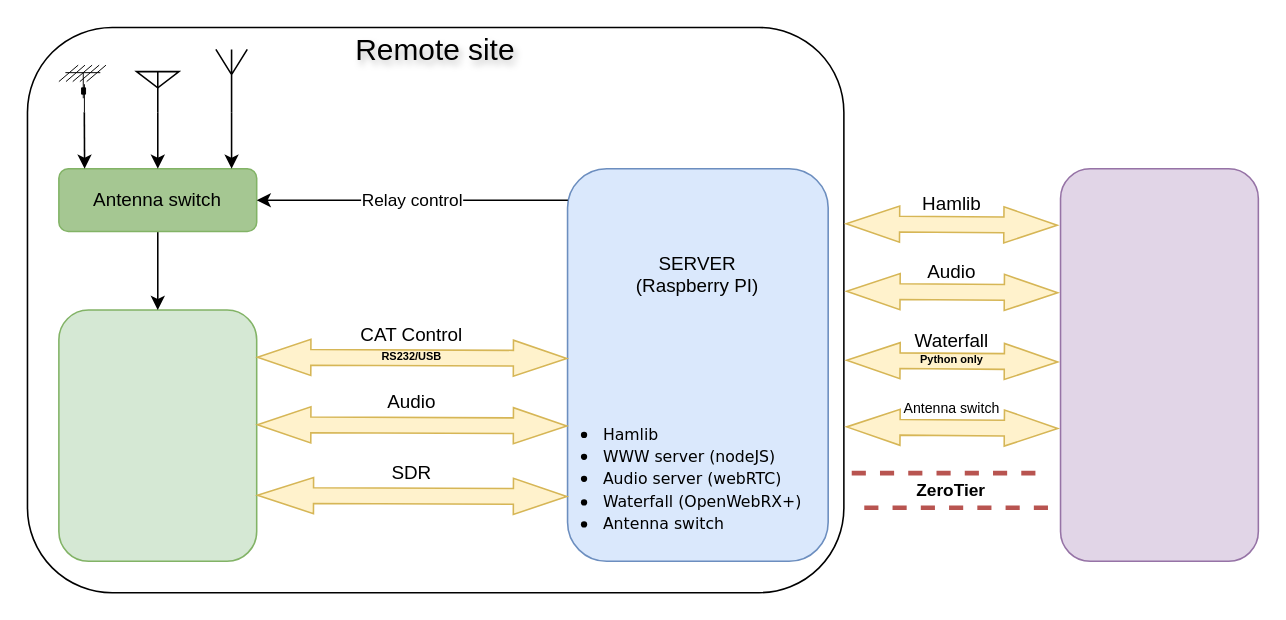
Some shapes in this 1286 by 620 pixel diagram are drawn without their labels. The shapes that lost their labels are listed below. From the top down, each one's centre as x and y in pixels, then its label:
[1158,364]: CLIENT WWW or Python App
[157,435]: Radio
